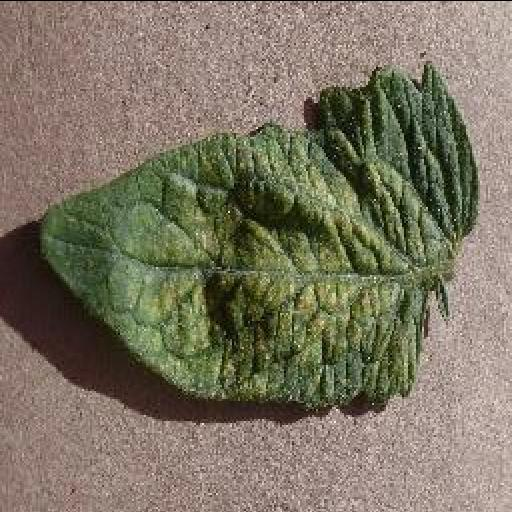disease_tomato: (38, 60, 482, 412)
